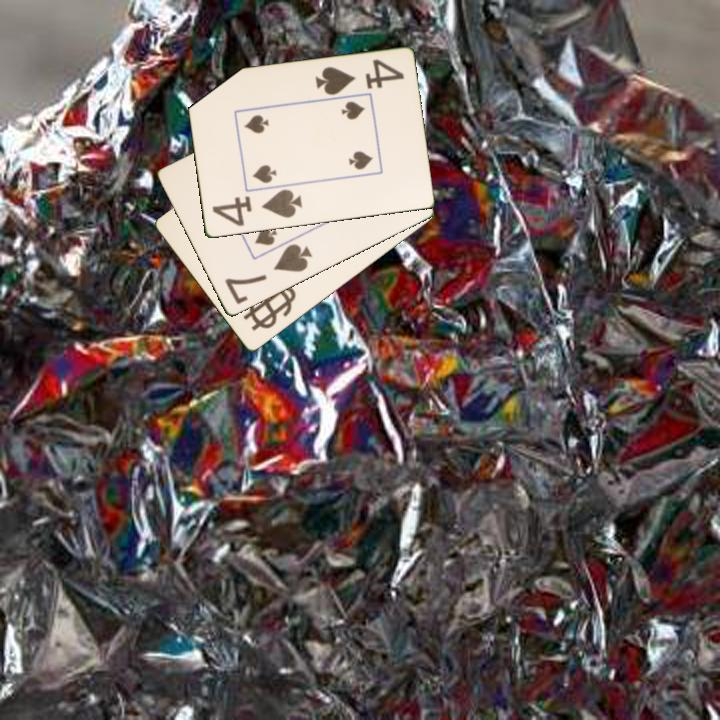4s: (209, 186, 305, 230), (312, 56, 406, 98)
7s: (221, 240, 316, 308)
JK: (250, 286, 295, 329)
